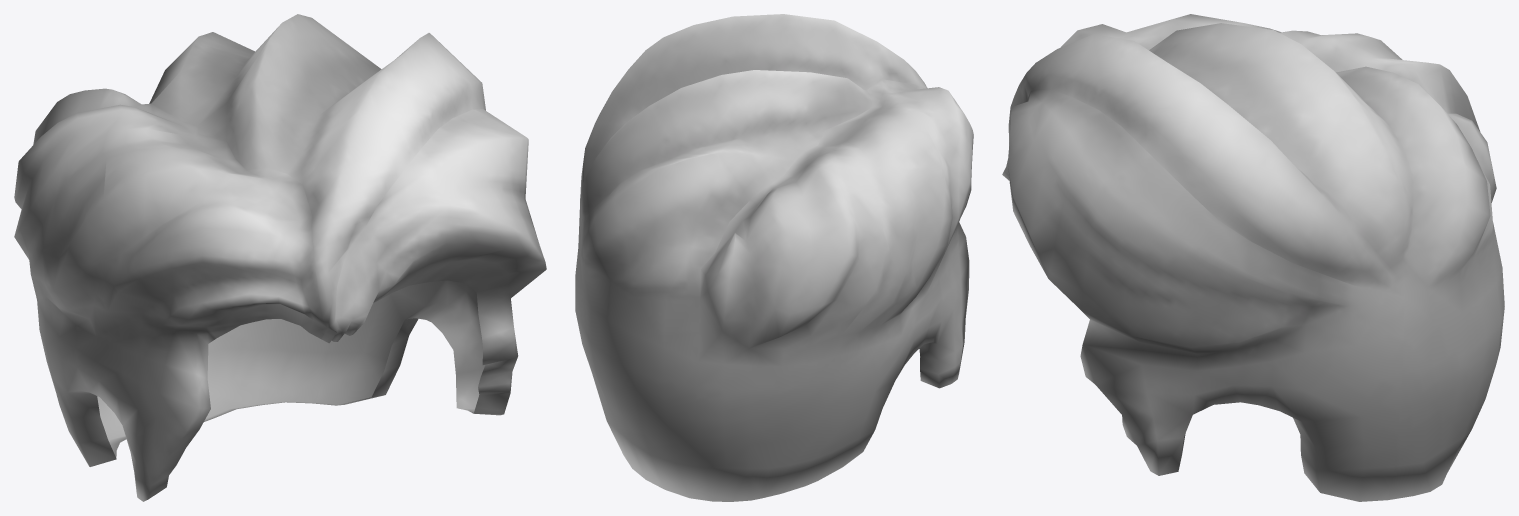
Rendered from hair-short.glb.
3 renders of one model, left to right at view 1: azimuth 30°, elevation 25°; view 2: azimuth 150°, elevation 25°; view 3: azimuth 270°, elevation 25°, orthographic. The views are drawn at different scales.
Parts seen in each view (by area): view 1: hair-short; view 2: hair-short; view 3: hair-short.
Part boxes in pixels (x1,y1,x2,y2): hair-short: (14,14,546,501); hair-short: (575,14,973,501); hair-short: (1002,14,1504,501).
Size of the model in its own units: 0.1754 by 0.1826 by 0.1857.
1 material, 1 textured.
